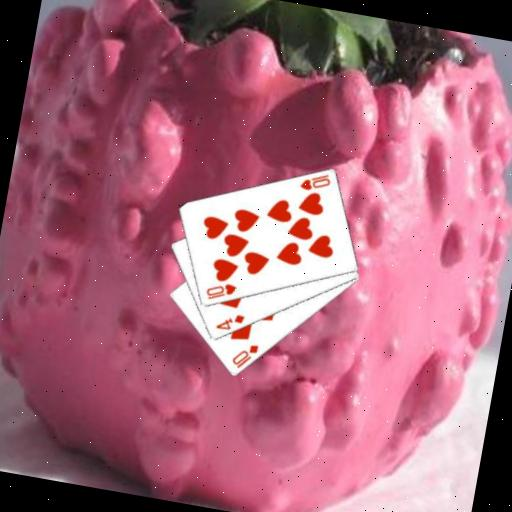10D: (227, 338, 260, 373)
10H: (295, 166, 333, 195), (201, 276, 238, 305)
4D: (212, 308, 247, 335)
